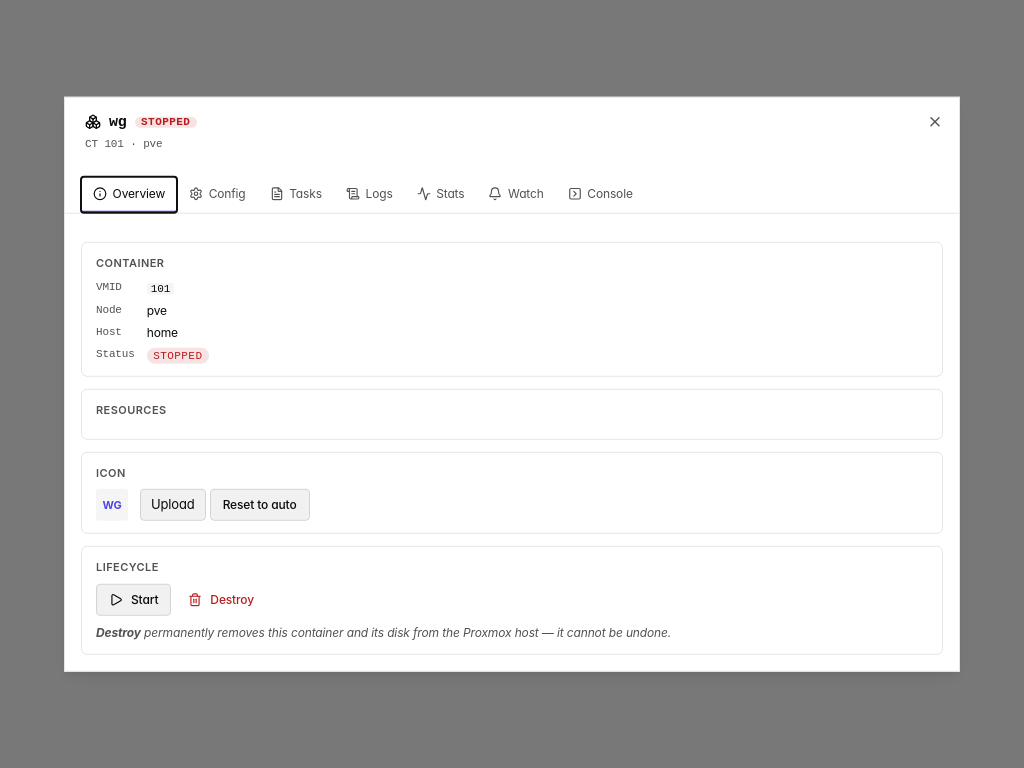
Test case: LxcModal Destroy — V6.13 › confirm dialog names the exact target (CT <vmid> · <name>)
Click the button "Destroy".
click(221, 599)  # box [175,583,267,615]
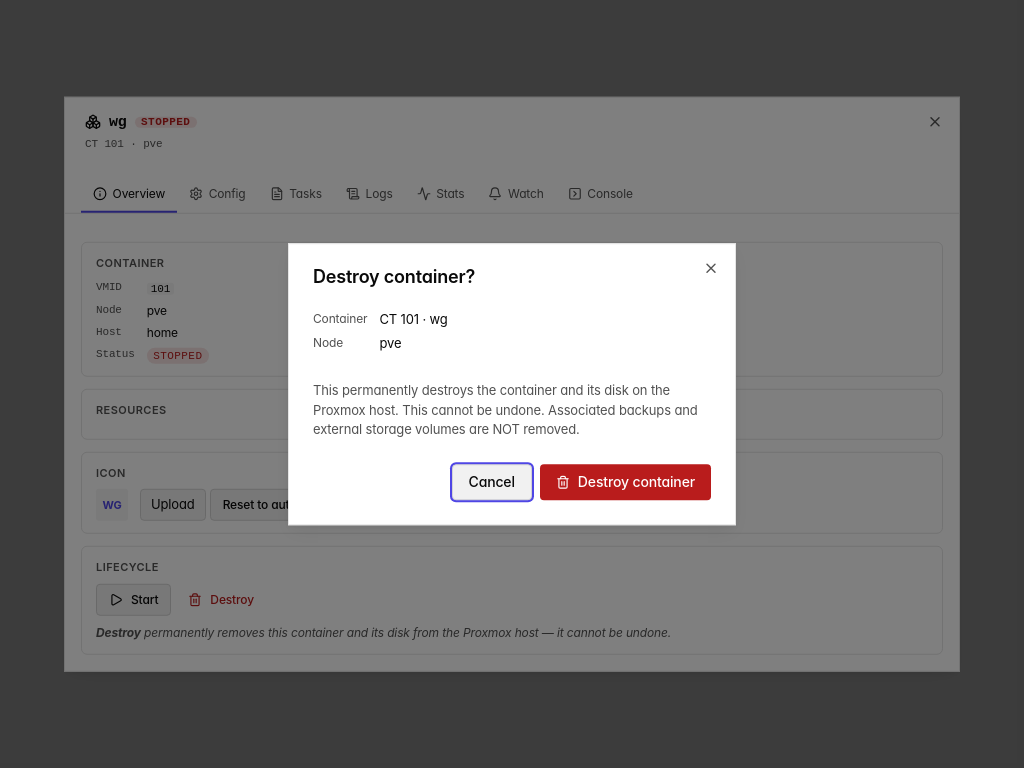
Expected: the heading "Destroy container?" is shown, [313,266,475,287]
Expected: the text "CT 101 · wg" is shown, [379,311,448,327]
